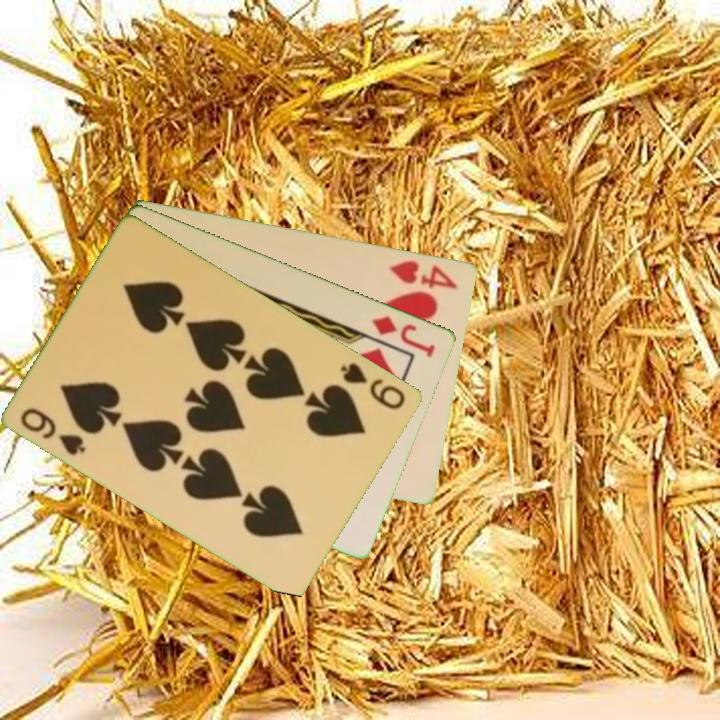4h: (386, 256, 460, 291)
9s: (337, 358, 409, 413), (17, 404, 90, 458)
Jd: (368, 312, 439, 360)
